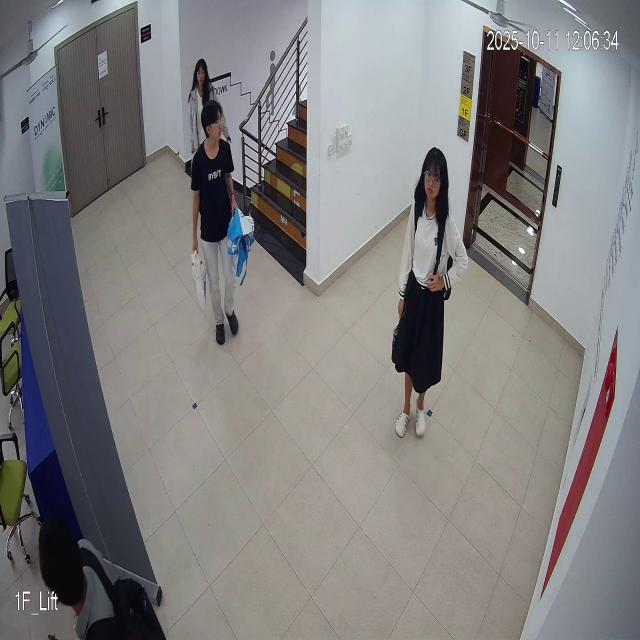face: (416, 144, 449, 209), (196, 95, 228, 154)
